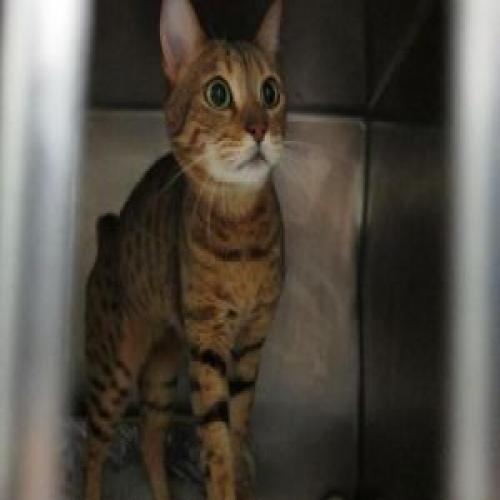bengal: (144, 1, 307, 189)
